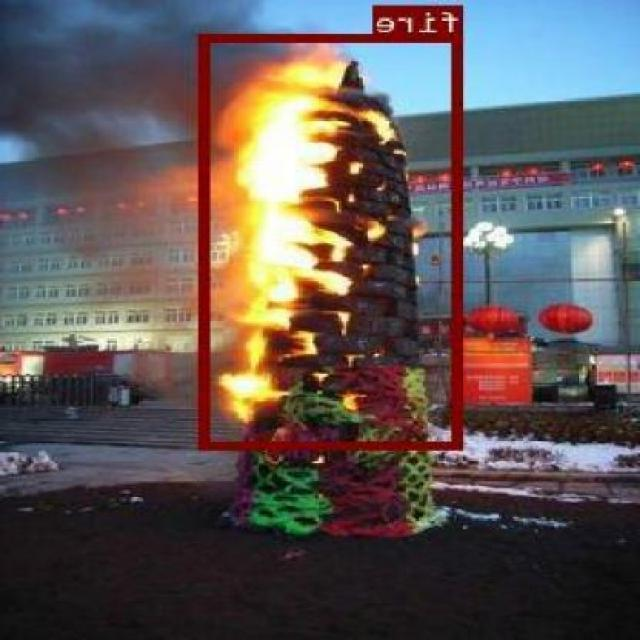Fire: (200, 50, 417, 450)
Smoke: (0, 0, 267, 322)
